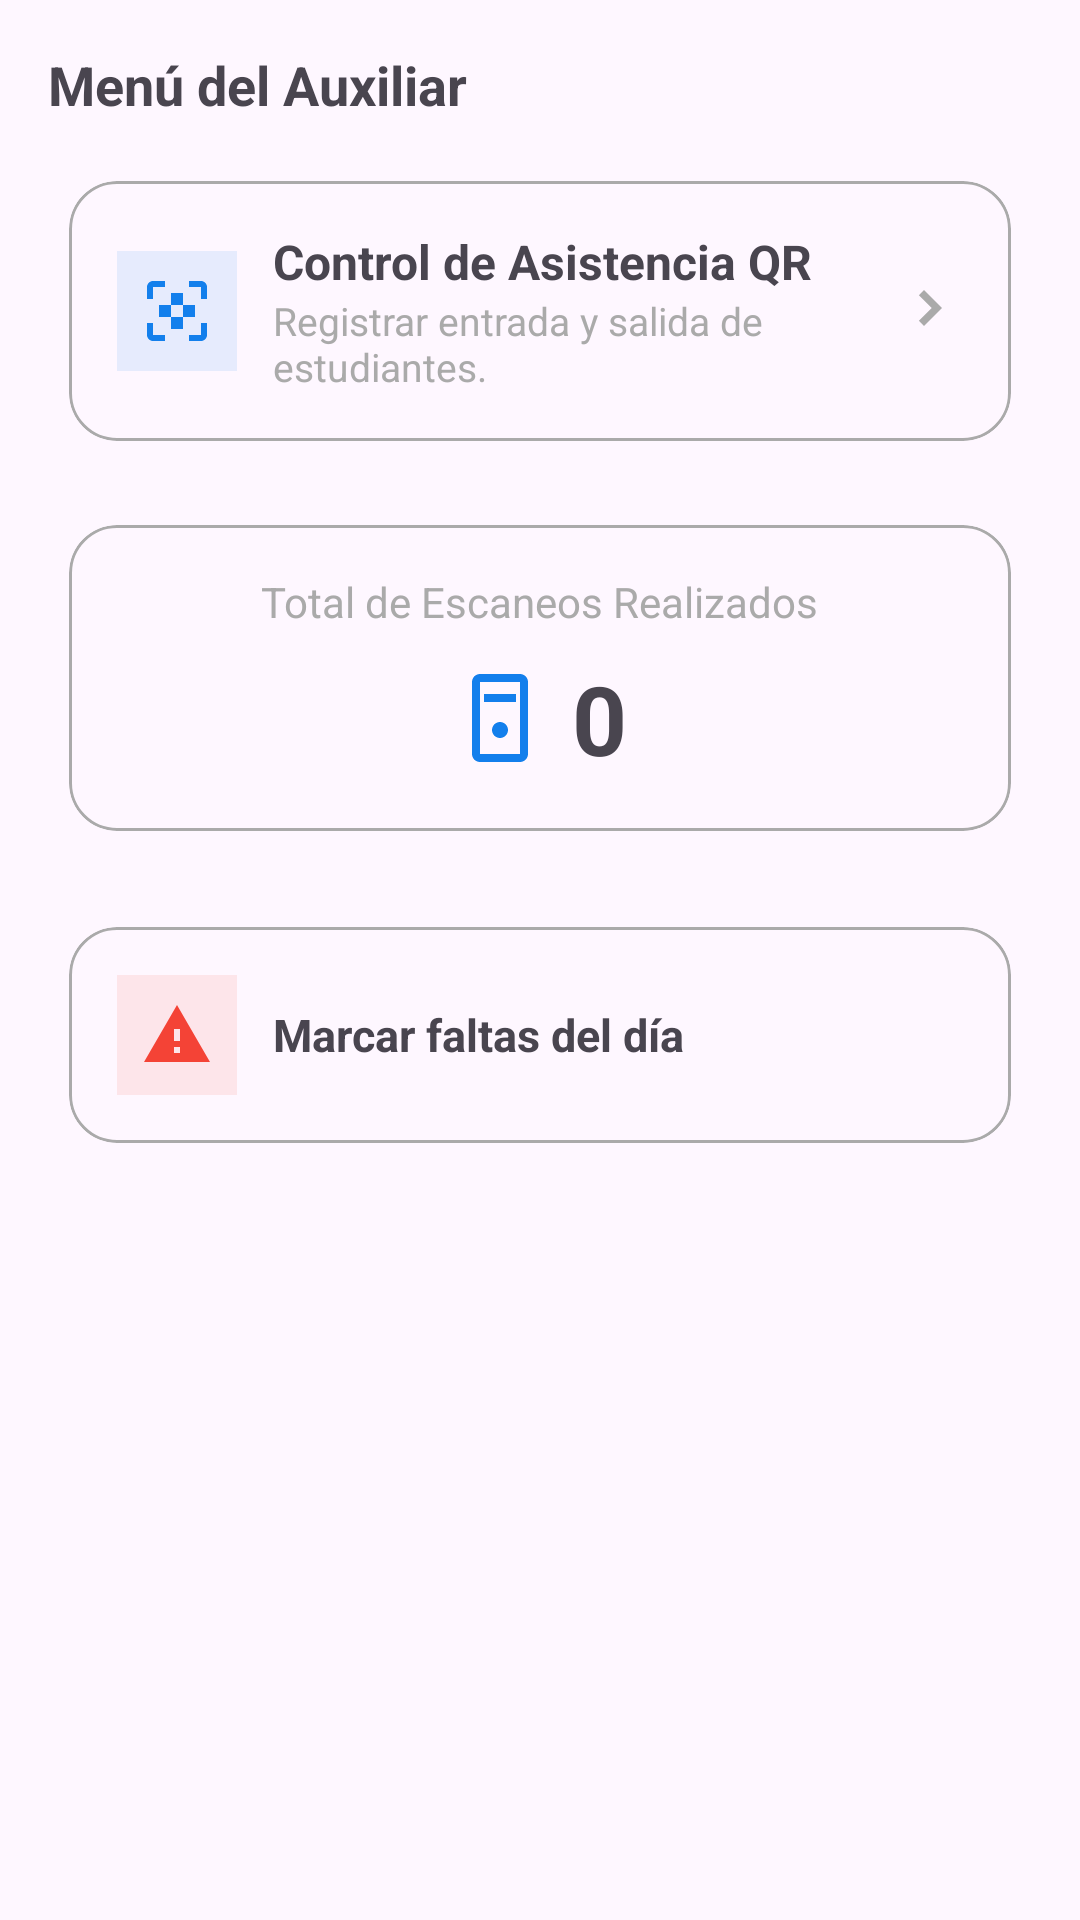

Icons on this 1080px x 1920px Android screen, each with its box as (x1, y1, x2, y2):
chevron right: (919, 290, 942, 326)
qr scanner: (147, 281, 207, 341)
warning: (144, 1005, 210, 1062)
